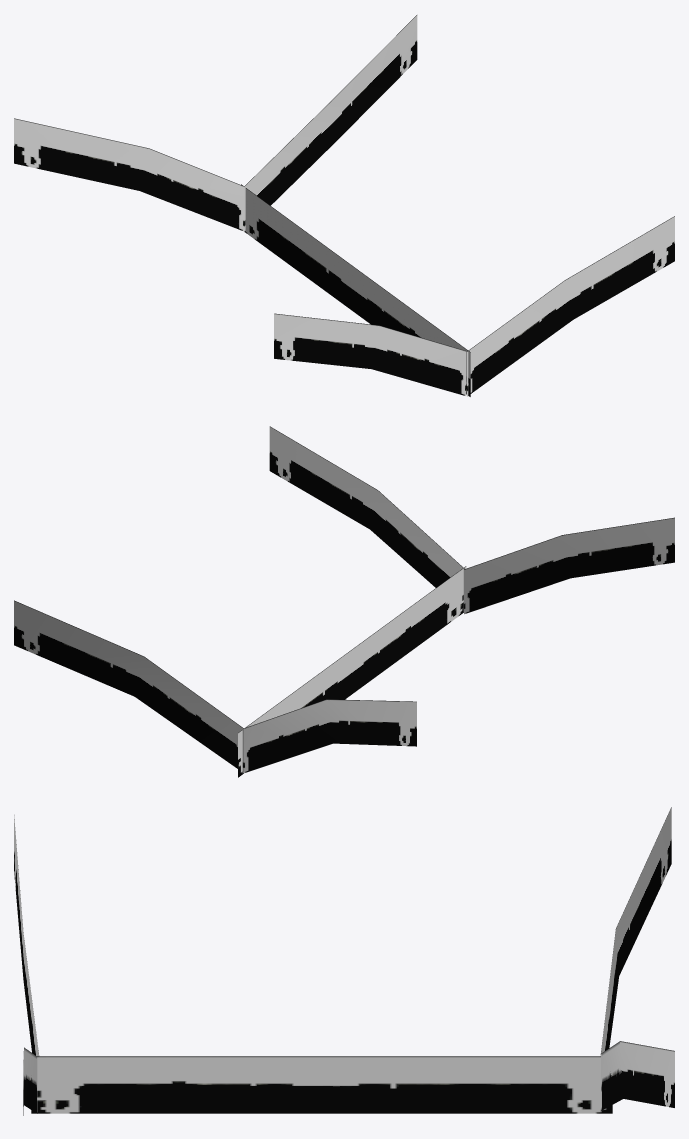
3 views of the same model, one above another, from view 1: azimuth 30°, elevation 25°; view 2: azimuth 150°, elevation 25°; view 3: azimuth 270°, elevation 25° (orthographic). The views are drawn at different scales.
Parts seen in each view (by area): view 1: wy04; view 2: wy04; view 3: wy04.
Boxes of the visible parts, box(x1,y1,x2,y2) form: wy04: box(14, 15, 674, 396); wy04: box(14, 426, 674, 777); wy04: box(14, 807, 674, 1115).
Size of the model in its own units: 306 by 107 by 342.
